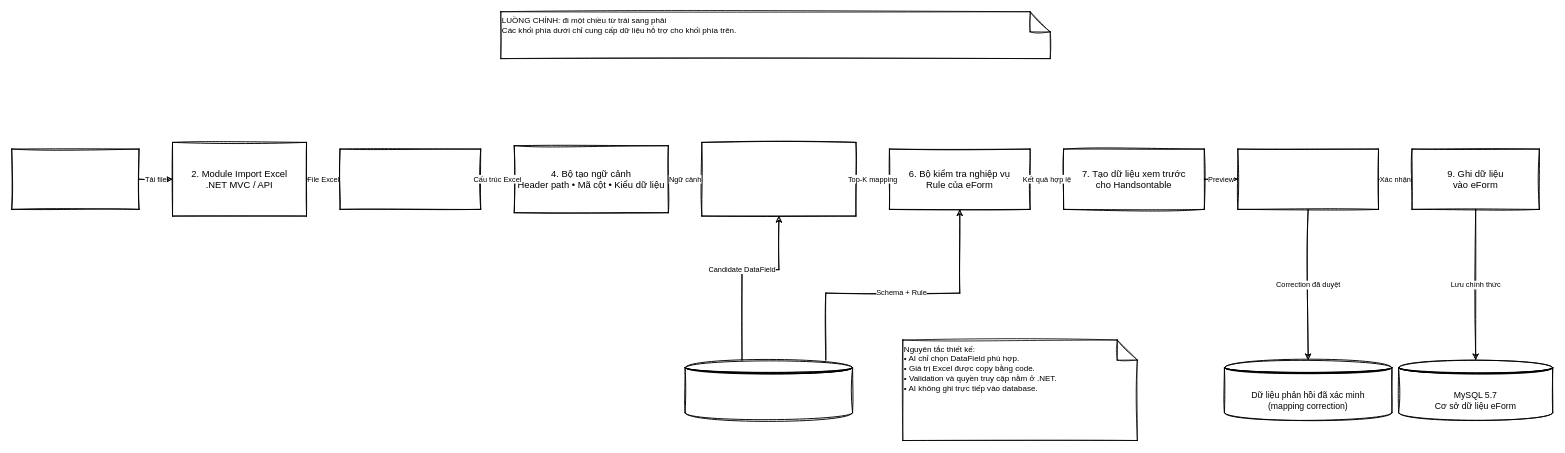
Image size: 1565x453. Some labels were removed from this diagram. Here are the shapes that lost their labels. From the top down, the box of each, then its label:
(11, 148, 139, 210): 1. Người dùng chọn file Excel
(339, 148, 481, 210): 3. Trình phân tích Excel (Python / openpyxl)
(701, 142, 856, 216): 5. Mô hình ánh xạ AI EFormExcelMapper-v1 (BGE-M3 fine-tuned)
(1237, 148, 1379, 210): 8. Người dùng kiểm tra và xác nhận
(684, 359, 853, 421): Metadata / Schema eForm DocType • DataField • Template
